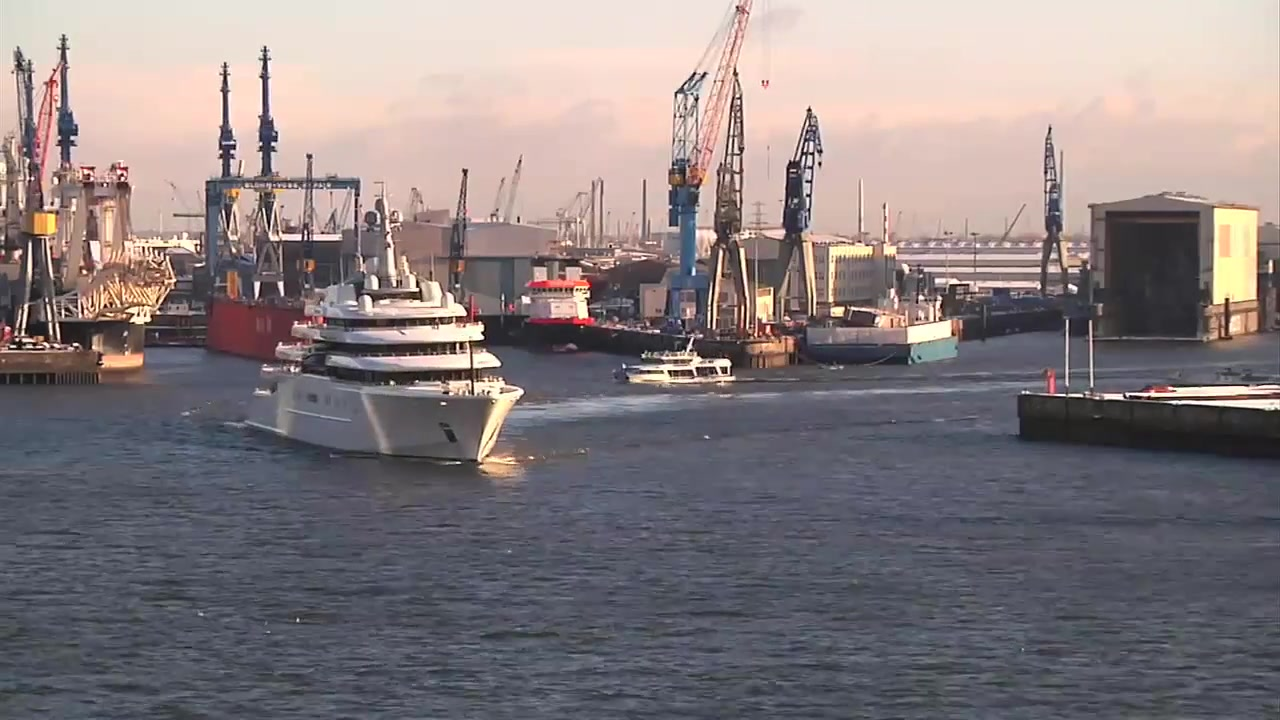boat: (242, 180, 526, 468)
